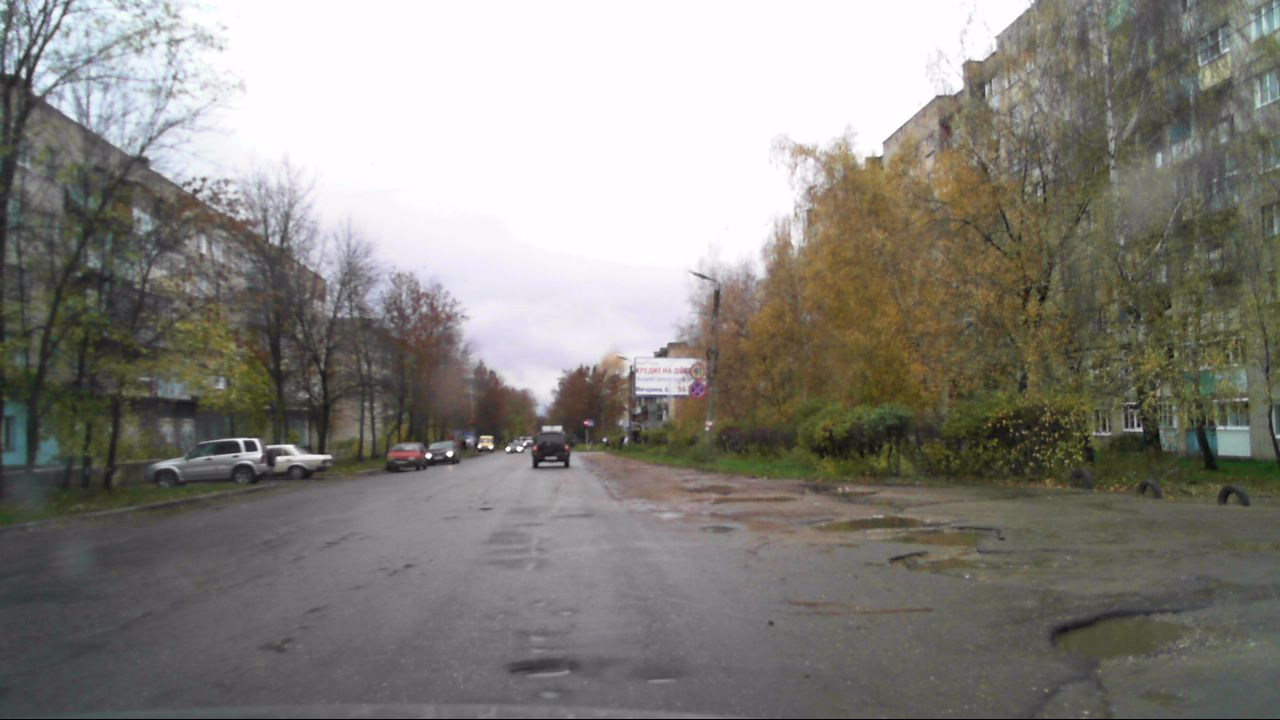No Parking: (687, 380, 708, 399)
speed_warning_40: (687, 360, 708, 379)
